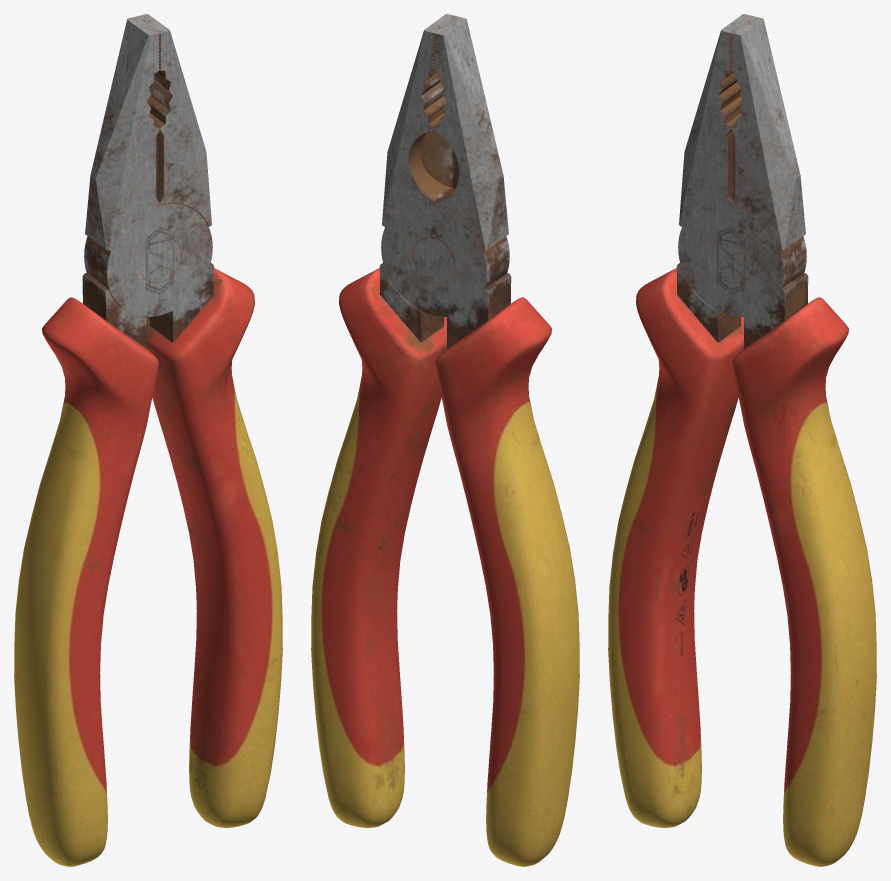
Rendered from pliers.glb.
The picture shows the model from 3 angles, left to right: view 1: azimuth 30°, elevation 25°; view 2: azimuth 150°, elevation 25°; view 3: azimuth 330°, elevation 25°; orthographic projection.
Parts seen in each view (by area): view 1: pliers_b, pliers_a, pliers_pin; view 2: pliers_a, pliers_b, pliers_pin; view 3: pliers_b, pliers_a, pliers_pin.
Boxes of the visible parts, x1,y1,x2,y2 form: pliers_b: (85,16,282,827); pliers_a: (14,14,211,866); pliers_pin: (138,237,181,282); pliers_a: (381,14,579,866); pliers_b: (311,16,509,827); pliers_pin: (412,237,455,282); pliers_b: (678,14,876,866); pliers_a: (608,16,806,827); pliers_pin: (709,237,752,282).
Bounding box in the file's own units: 0.0553 × 0.1798 × 0.018.
1 material, 1 textured.
